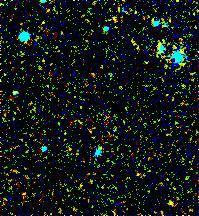star: (158, 189, 188, 216)
